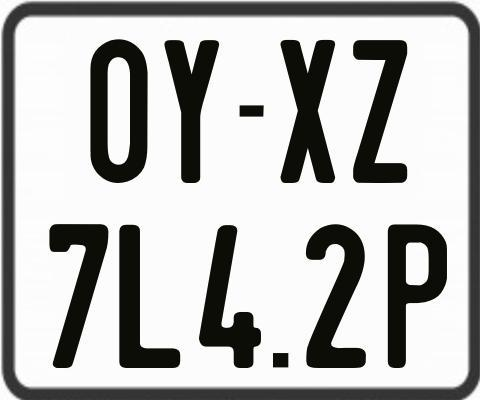0: (87, 38, 146, 182)
2: (305, 224, 371, 370)
4: (199, 222, 266, 365)
7: (46, 221, 111, 369)
L: (119, 224, 181, 373)
P: (387, 221, 448, 366)
X: (280, 37, 335, 183)
Y: (162, 38, 219, 181)
Z: (353, 37, 413, 183)
